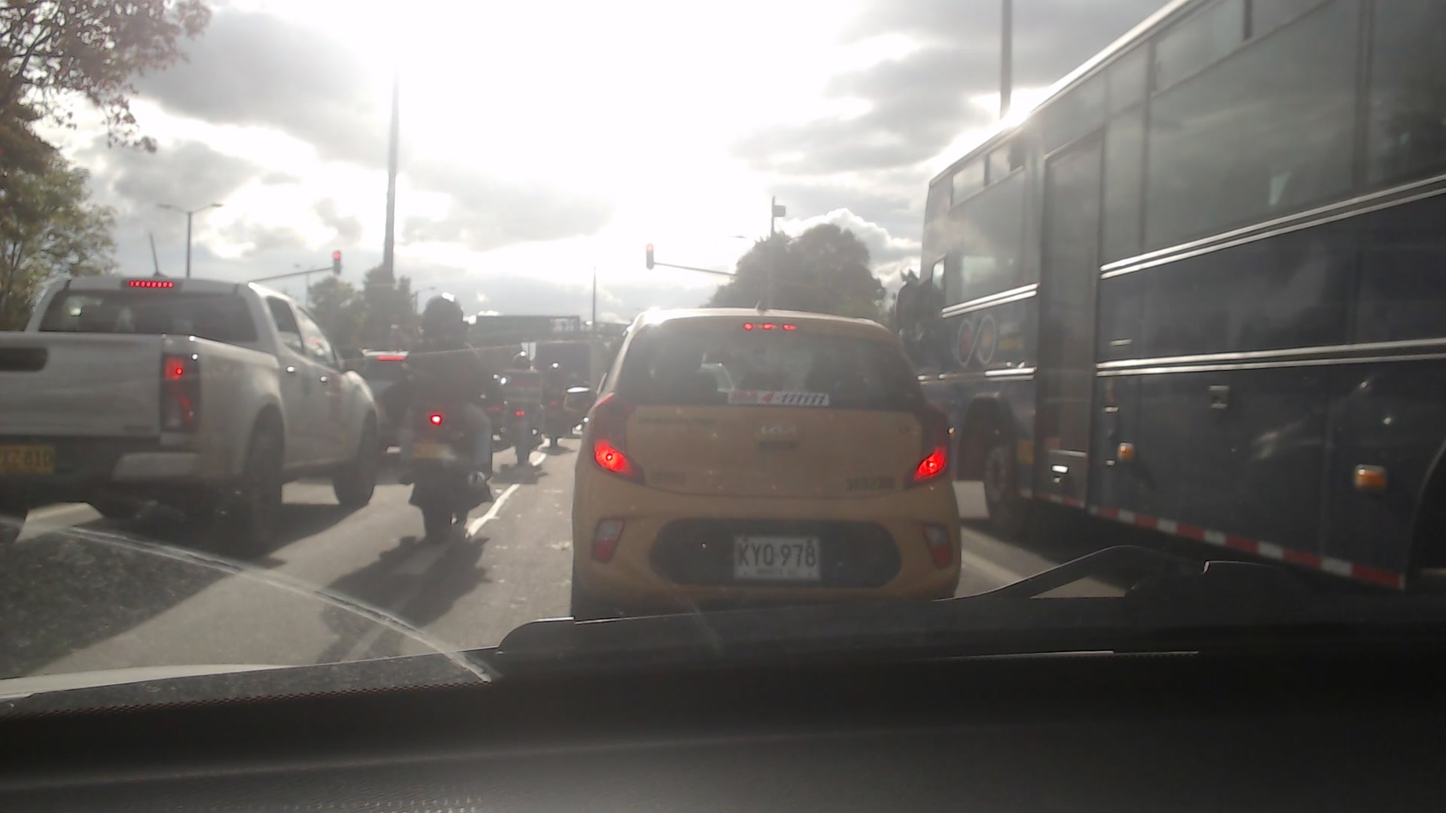bus: (903, 0, 1446, 601)
car: (574, 292, 968, 623), (0, 265, 386, 556)
motorcycle: (396, 395, 489, 544), (497, 407, 543, 474)
person: (407, 291, 494, 506)
